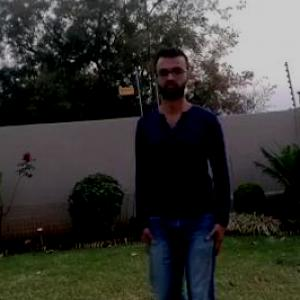follow: (124, 46, 227, 299)
